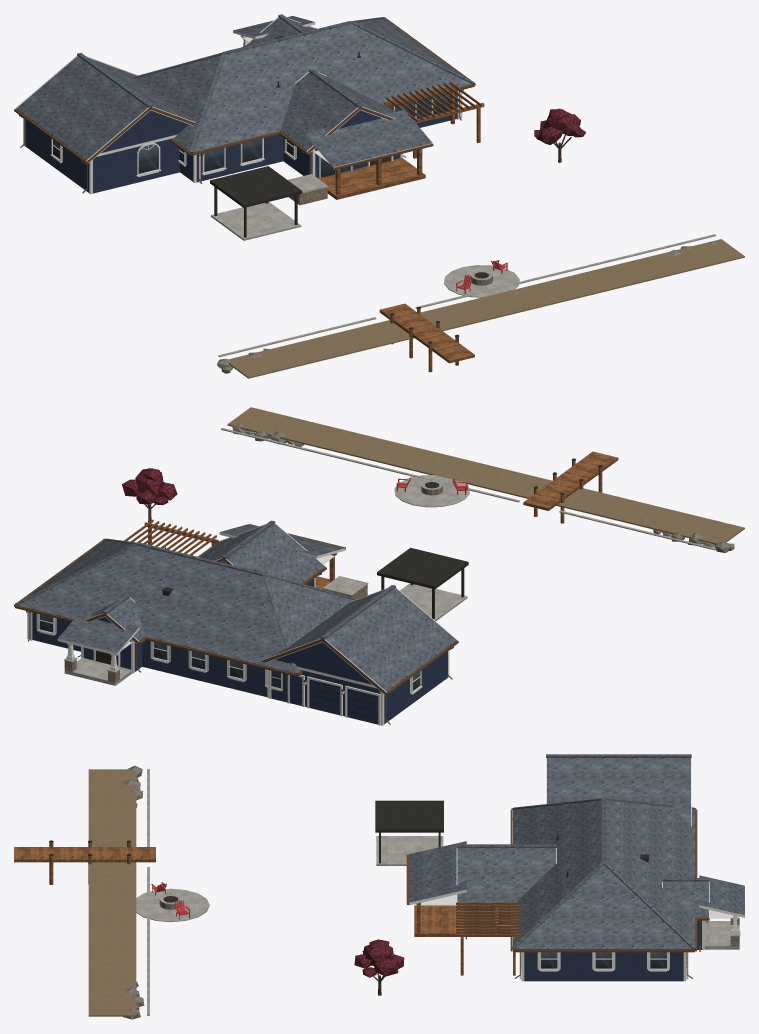
Rendered from lot-8405.fbx.
3 views of the same model, one above another, from view 1: azimuth 30°, elevation 25°; view 2: azimuth 150°, elevation 25°; view 3: azimuth 270°, elevation 25° (orthographic). The views are drawn at different scales.
Visible parts, largest first — view 1: lot-8405_LOD0; view 2: lot-8405_LOD0; view 3: lot-8405_LOD0.
Boxes of the visible parts, x1,y1,x2,y2 form: lot-8405_LOD0: (14,14,744,378); lot-8405_LOD0: (14,407,744,725); lot-8405_LOD0: (14,754,744,1019).
Size of what is drawn, in the model's own units: 39.7 by 7.78 by 48.96.
Materials: 2 (2 with a texture image).
